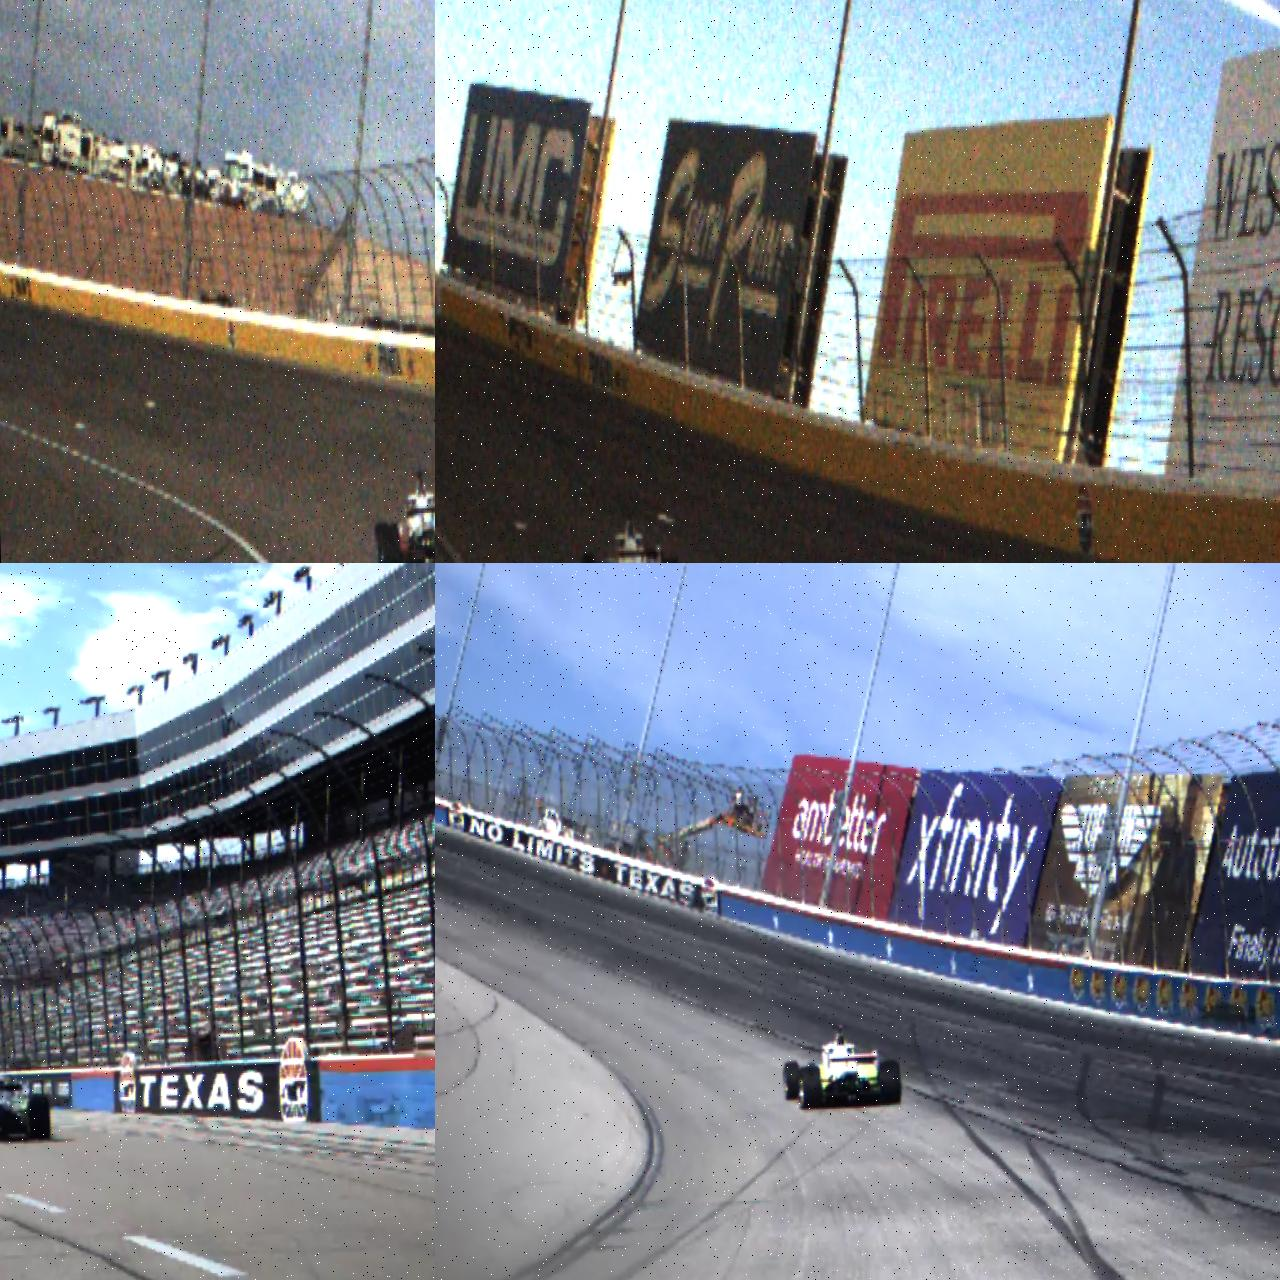AV: (779, 1021, 903, 1111), (373, 468, 435, 563), (579, 512, 683, 563), (0, 1056, 52, 1143)
Wheel: (28, 1092, 52, 1141), (878, 1060, 901, 1104), (798, 1065, 822, 1109), (783, 1060, 801, 1101), (381, 525, 399, 563), (375, 520, 390, 563), (581, 552, 595, 563)
